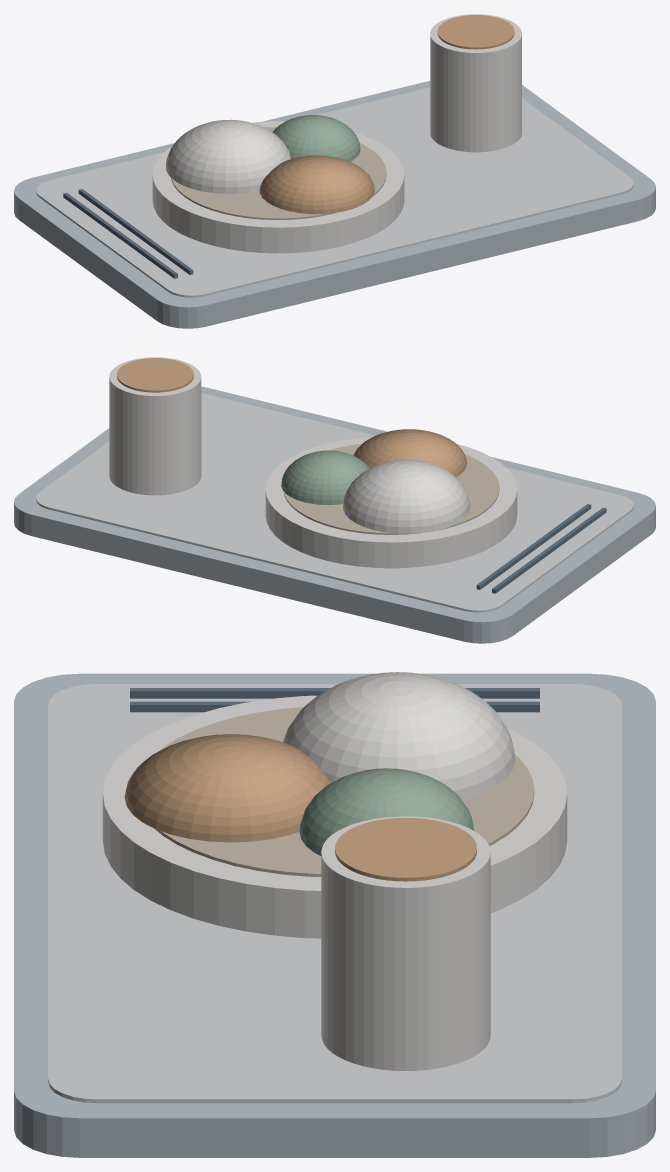
File: meal.glb
3 views of the same model, one above another, from view 1: azimuth 30°, elevation 25°; view 2: azimuth 150°, elevation 25°; view 3: azimuth 270°, elevation 25° (orthographic). The views are drawn at different scales.
Visible parts, largest first — view 1: meal; view 2: meal; view 3: meal.
Boxes of the visible parts, box(x1,y1,x2,y2) form: meal: box(14, 14, 655, 328); meal: box(14, 357, 655, 643); meal: box(14, 672, 655, 1157).
Bounding box in the file's own units: 3.85 × 0.9375 × 2.35.
